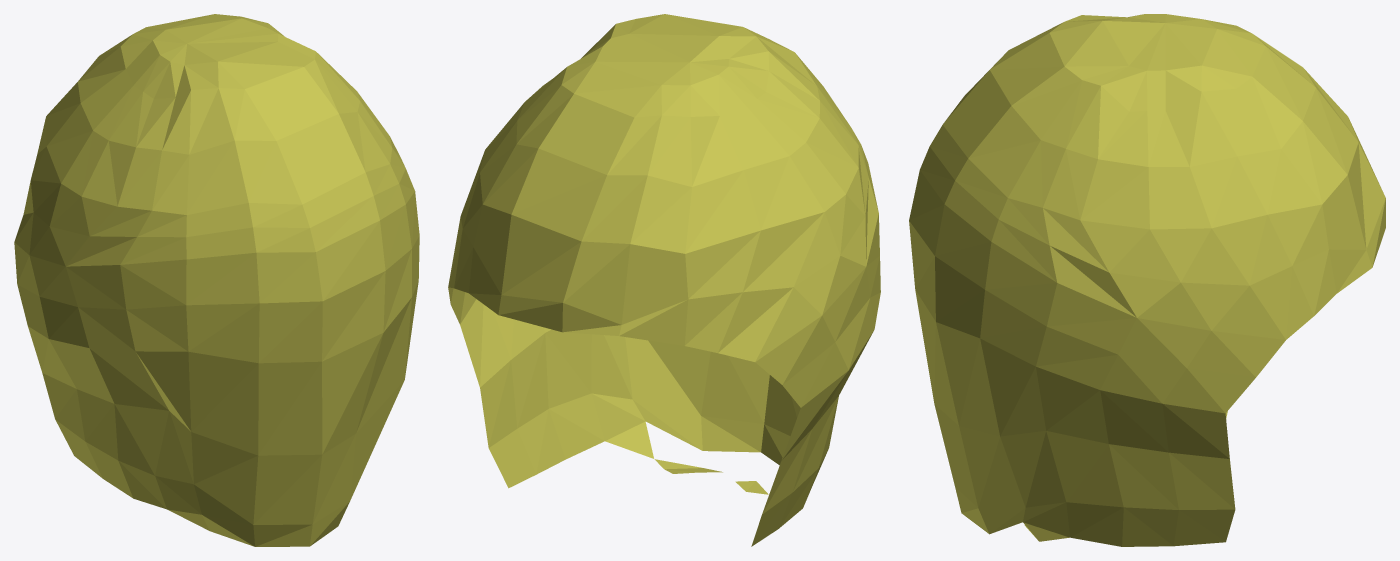
Rendered from hood.obj.
3 views of the same model, side by side, from view 1: azimuth 30°, elevation 25°; view 2: azimuth 150°, elevation 25°; view 3: azimuth 270°, elevation 25° (orthographic). The views are drawn at different scales.
Parts seen in each view (by area): view 1: obj1; view 2: obj1; view 3: obj1.
Boxes of the visible parts, left/top/right/bottom form: obj1: left=14, top=14, right=419, bottom=546; obj1: left=448, top=14, right=880, bottom=546; obj1: left=909, top=14, right=1385, bottom=546.
Size of the model in its own units: 4.13 by 5.11 by 4.62.
